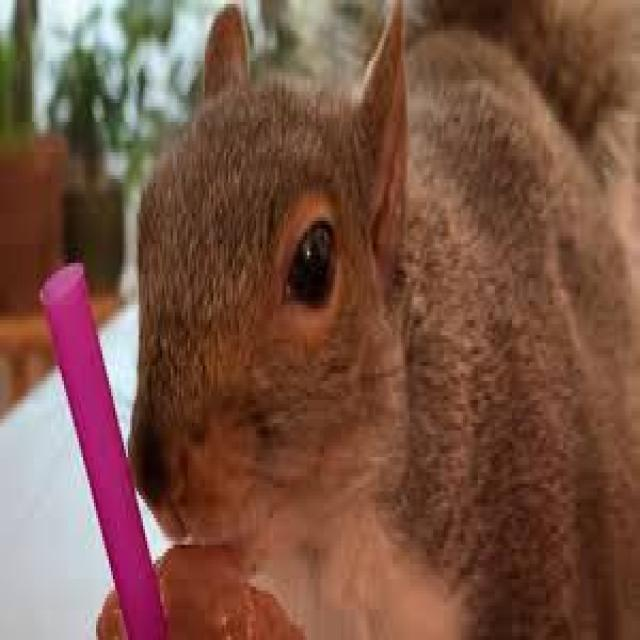Squirrel: (139, 24, 634, 628)
